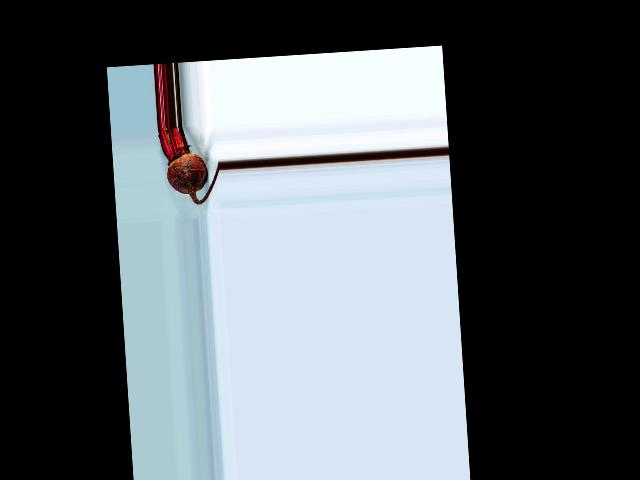beet: (157, 123, 220, 206)
